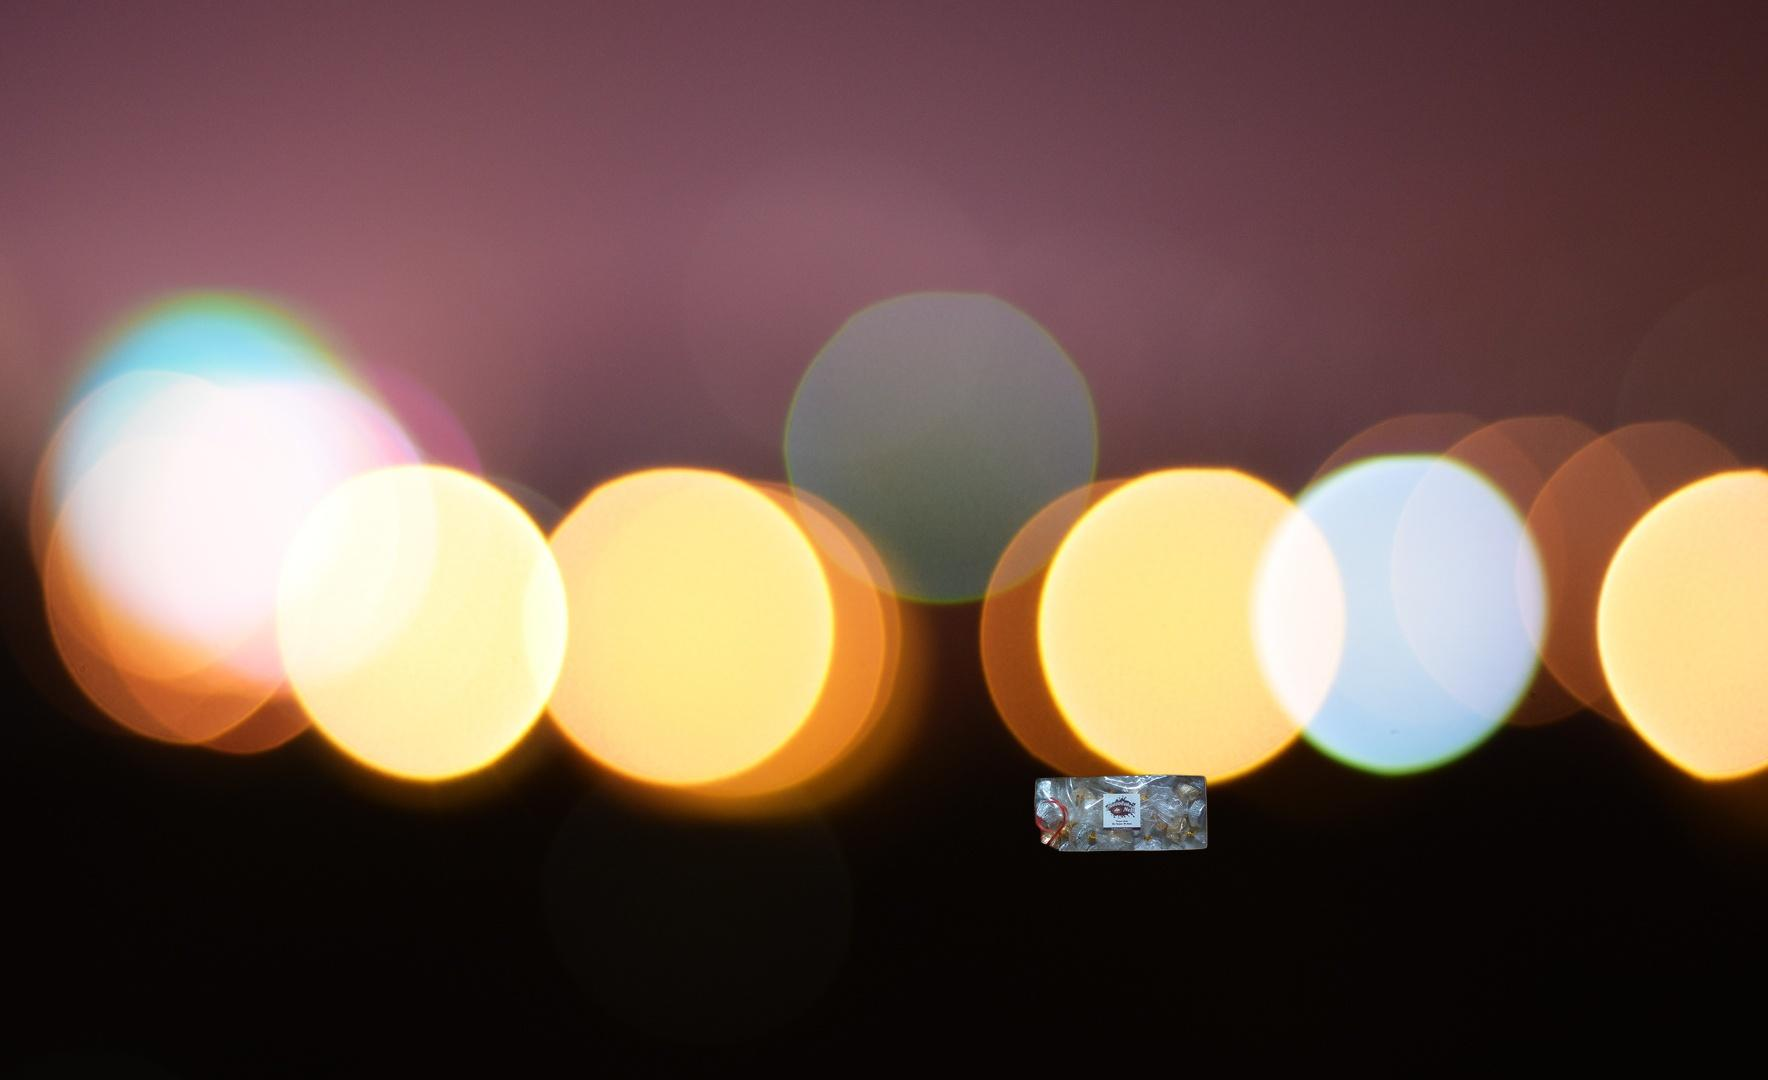trashbox-cardboard: (1030, 772, 1211, 891)
